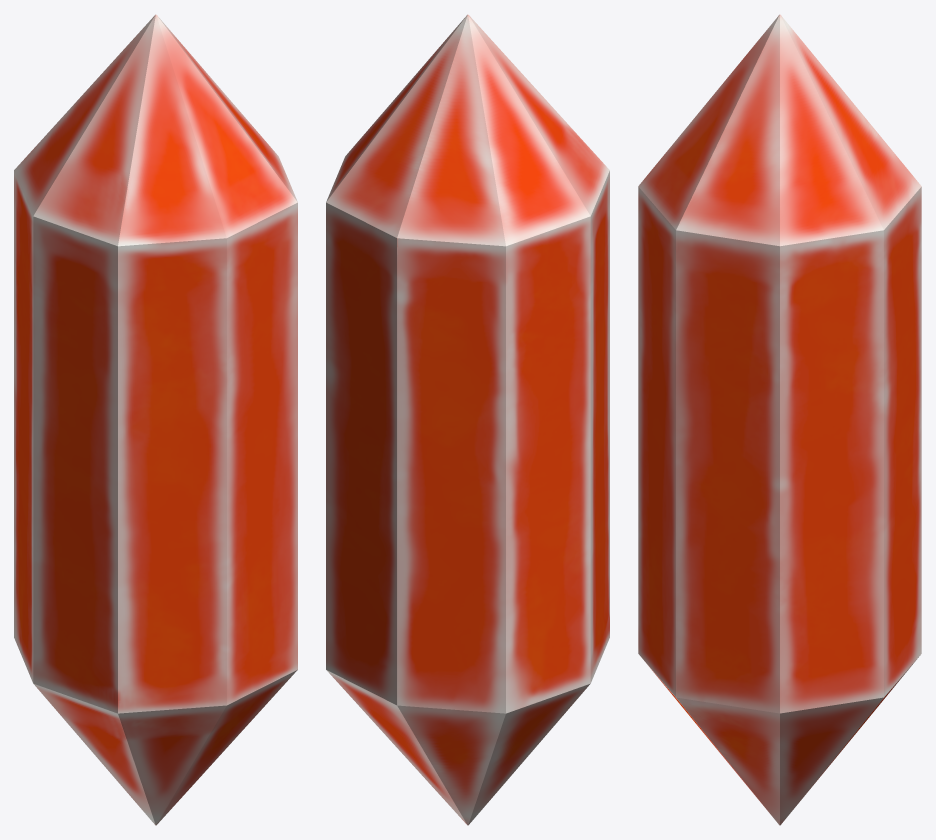
File: crystal_fire.glb
3 views of the same model, side by side, from view 1: azimuth 30°, elevation 25°; view 2: azimuth 150°, elevation 25°; view 3: azimuth 270°, elevation 25° (orthographic).
Parts seen in each view (by area): view 1: Plane; view 2: Plane; view 3: Plane.
Boxes of the visible parts, left/top/right/bottom form: Plane: left=14, top=14, right=297, bottom=825; Plane: left=326, top=14, right=609, bottom=825; Plane: left=638, top=14, right=921, bottom=825.
Bounding box in the file's own units: 0.275 × 0.8689 × 0.275.
1 material, 1 textured.
